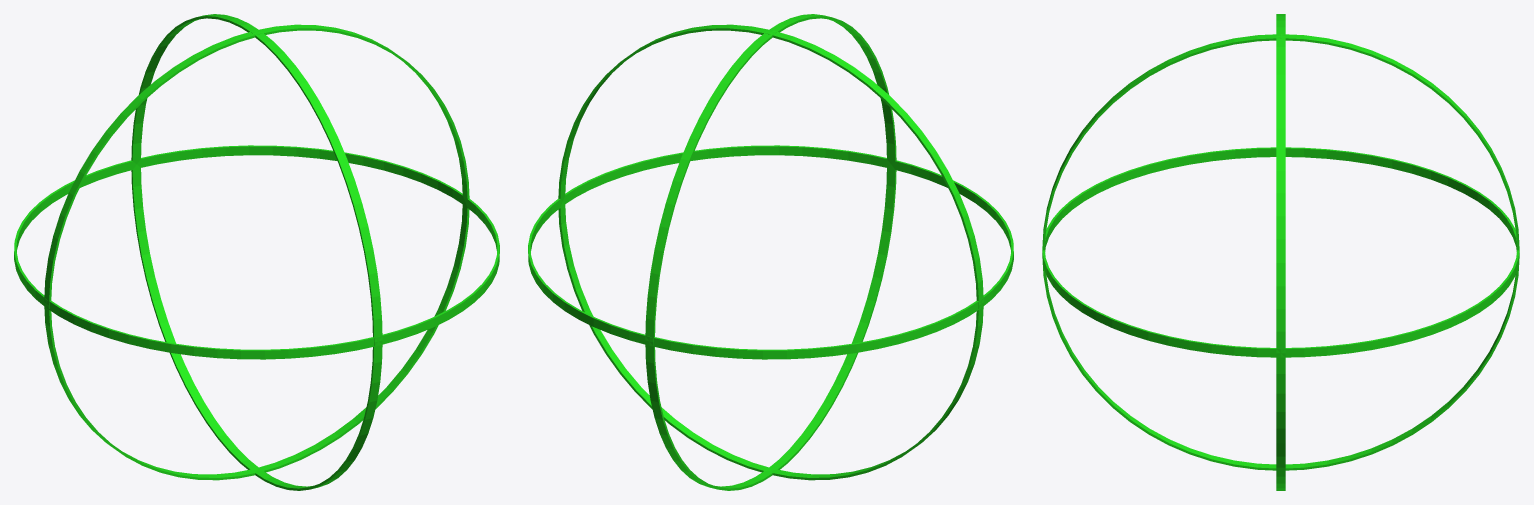
File: tinker.obj
3 renders of one model, left to right at view 1: azimuth 30°, elevation 25°; view 2: azimuth 150°, elevation 25°; view 3: azimuth 270°, elevation 25°, orthographic.
Parts seen in each view (by area): view 1: obj_0; view 2: obj_0; view 3: obj_0.
Part boxes in pixels (<box>): obj_0: <box>14,14,499,490</box>; obj_0: <box>528,14,1013,490</box>; obj_0: <box>1042,14,1519,490</box>.
Bounding box in the file's own units: 100 × 100 × 100.
